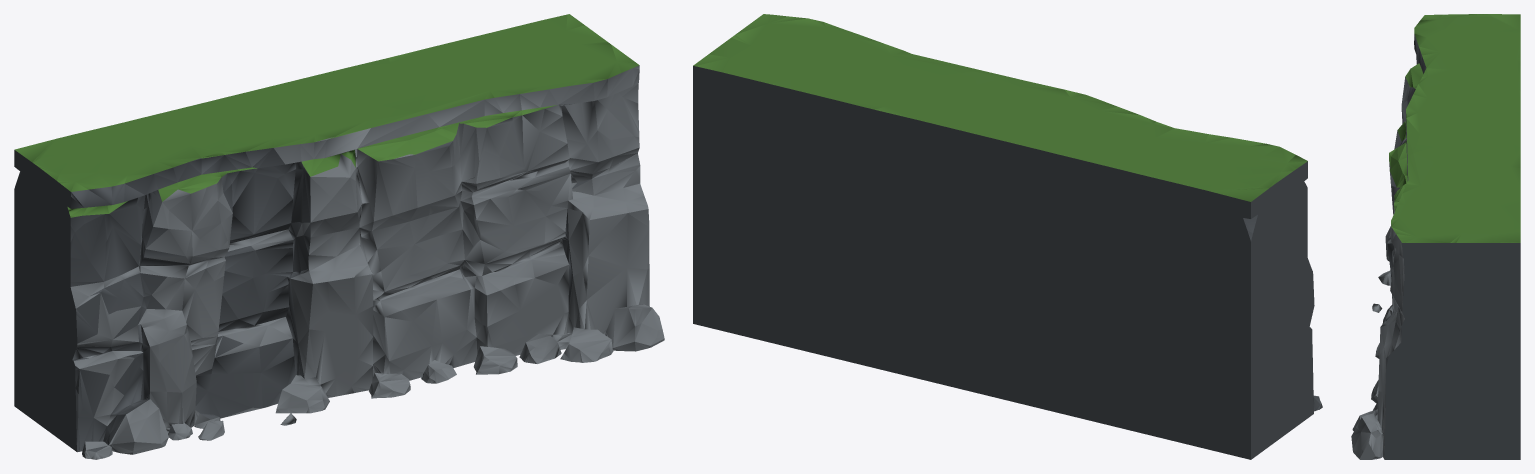
File: mdvl_nature_cliff_03.fbx
3 views of the same model, side by side, from view 1: azimuth 30°, elevation 25°; view 2: azimuth 150°, elevation 25°; view 3: azimuth 270°, elevation 25° (orthographic). The views are drawn at different scales.
Visible parts, largest first — view 1: mdvl_nature_cliff_03; view 2: mdvl_nature_cliff_03; view 3: mdvl_nature_cliff_03.
Part boxes in pixels (bbox=[...]): mdvl_nature_cliff_03: bbox=[14, 14, 664, 459]; mdvl_nature_cliff_03: bbox=[693, 14, 1322, 459]; mdvl_nature_cliff_03: bbox=[1351, 14, 1520, 459].
Bounding box in the file's own units: 4 × 1.77 × 1.25.
